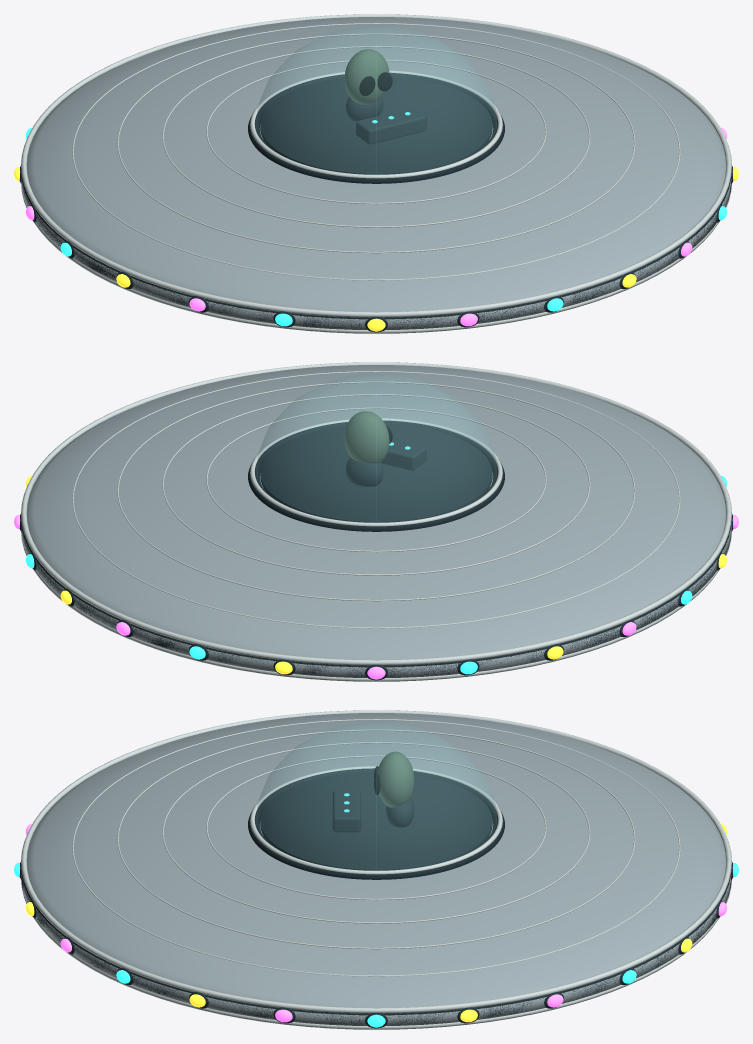
File: UFO.glb
3 renders of one model, top to bottom at view 1: azimuth 30°, elevation 25°; view 2: azimuth 150°, elevation 25°; view 3: azimuth 270°, elevation 25°, orthographic.
Visible parts, largest first — view 1: UFO; view 2: UFO; view 3: UFO.
Boxes of the visible parts, x1,y1,x2,y2 form: UFO: (14, 14, 738, 333); UFO: (14, 362, 738, 681); UFO: (14, 710, 738, 1029).
Bounding box in the file's own units: 6.12 × 1.8 × 6.12.
